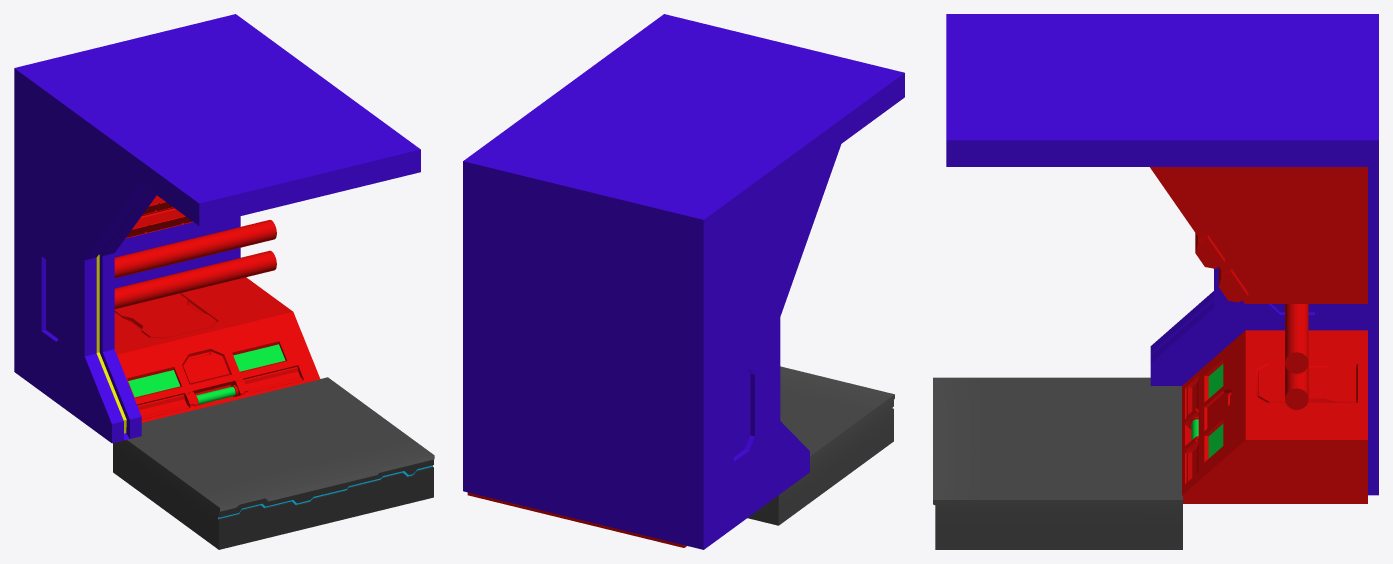
File: BackGrawndA.fbx
3 views of the same model, side by side, from view 1: azimuth 30°, elevation 25°; view 2: azimuth 150°, elevation 25°; view 3: azimuth 270°, elevation 25° (orthographic). The views are drawn at different scales.
Visible parts, largest first — view 1: Wall, BackGrawndFloor, Bace1, Pipe1, Pipe2, BaceParts1; view 2: Wall, BackGrawndFloor, Bace1; view 3: Wall, BackGrawndFloor, Bace1, Bace2, Pipe2, Pipe1, BaceParts1, BaceParts2.
Boxes of the visible parts, x1,y1,x2,y2 form: Wall: (14,14,420,443); BackGrawndFloor: (113,377,434,549); Bace1: (114,277,320,422); Pipe1: (114,250,276,309); Pipe2: (114,220,276,278); BaceParts1: (125,208,192,238); Wall: (463,14,904,549); BackGrawndFloor: (747,366,894,525); Bace1: (467,492,686,547); Wall: (946,14,1378,495); BackGrawndFloor: (933,377,1182,549); Bace1: (1182,330,1367,503); Bace2: (1150,167,1367,303); Pipe2: (1285,304,1308,373); Pipe1: (1285,365,1308,409); BaceParts1: (1218,267,1248,302); BaceParts2: (1195,233,1224,268).
Size of the model in its own units: 42.78 by 61.64 by 61.51.
